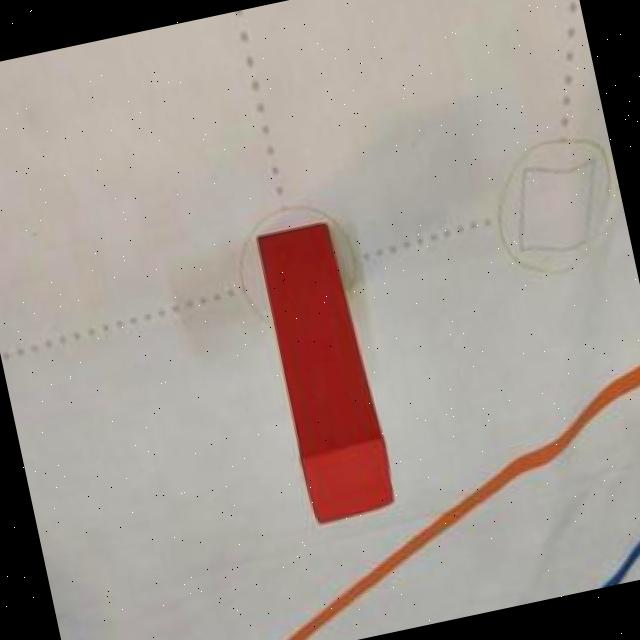redbox: (250, 218, 400, 531)
